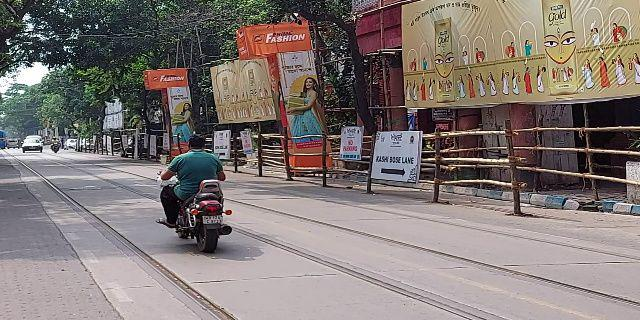Motorbike: (155, 132, 232, 256)
